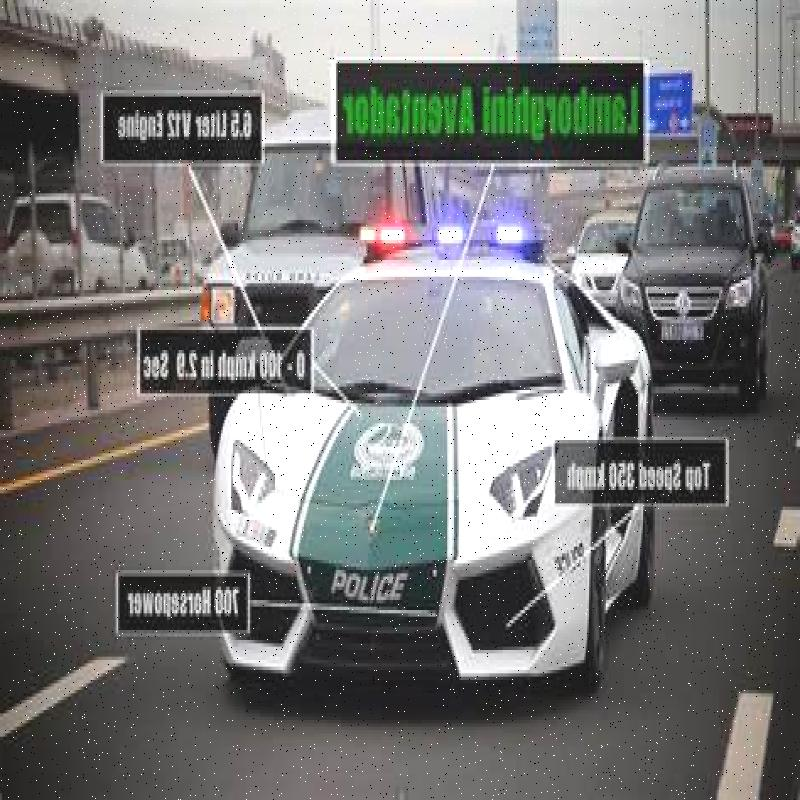AmbulanceSiren: (349, 203, 547, 270)
car: (217, 261, 643, 655)
